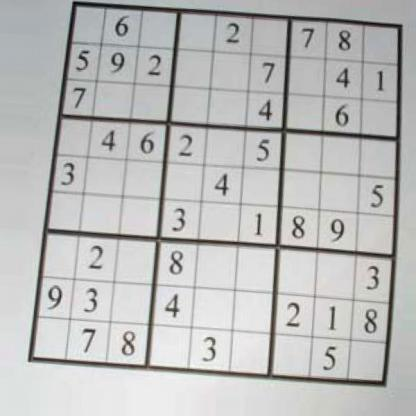sudoku: (23, 0, 406, 394)
